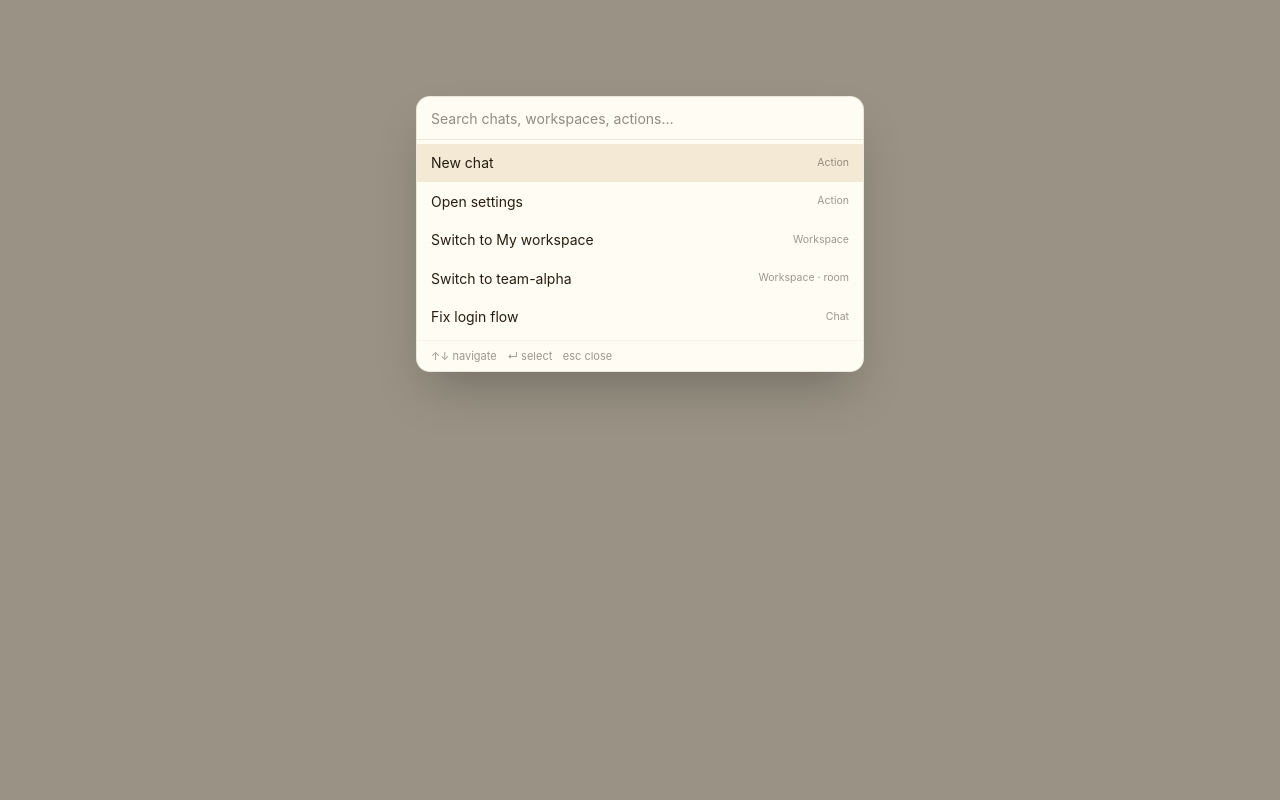
it: CommandPalette › filters by query
The width and height of the screenshot is (1280, 800).
Check: the text "Switch to team-alpha" is shown, box [431,268,572,289]
Type "team" into the field with placeholder "Search chats, workspaces, actions…" at (640, 118), box [417,97,863,140]
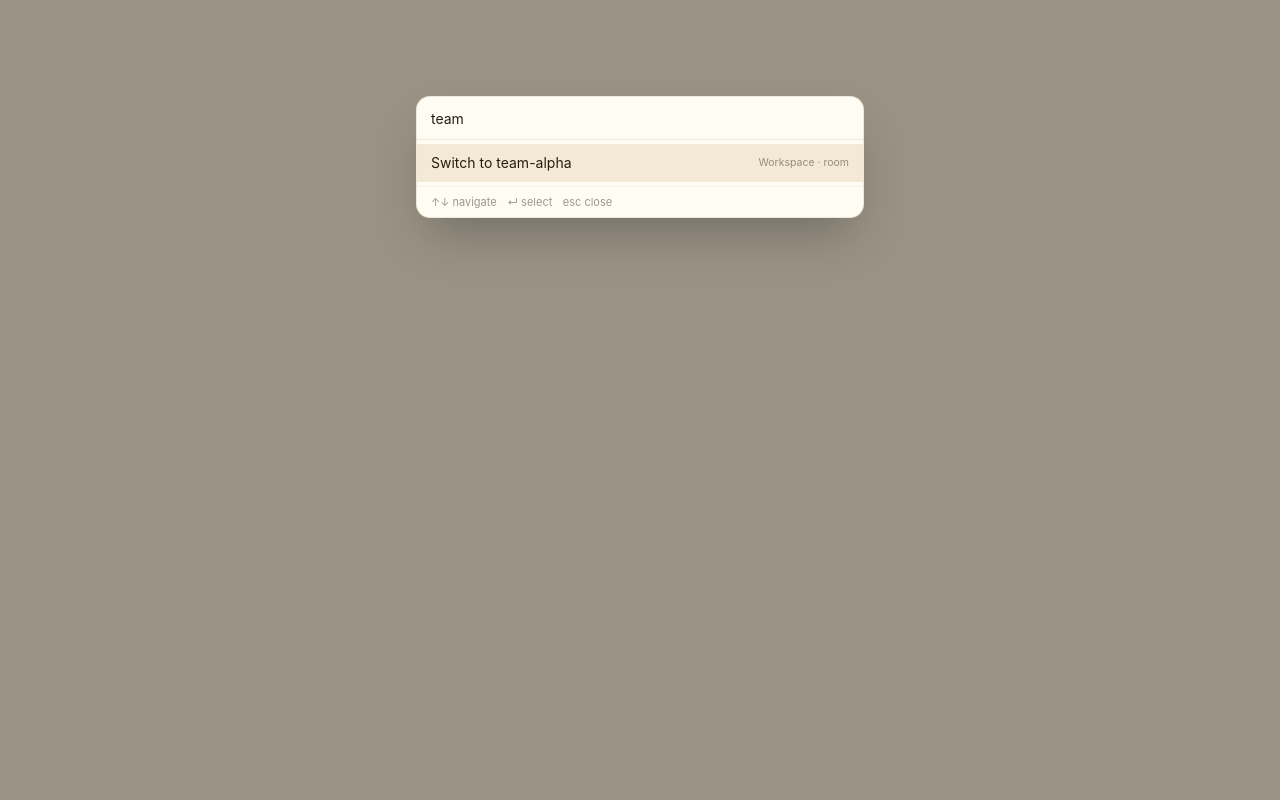
Check: the text "Switch to team-alpha" is shown, box [431,152,572,173]
Check: the button "New chat" is gone
Check: the button "Fix login flow" is gone
